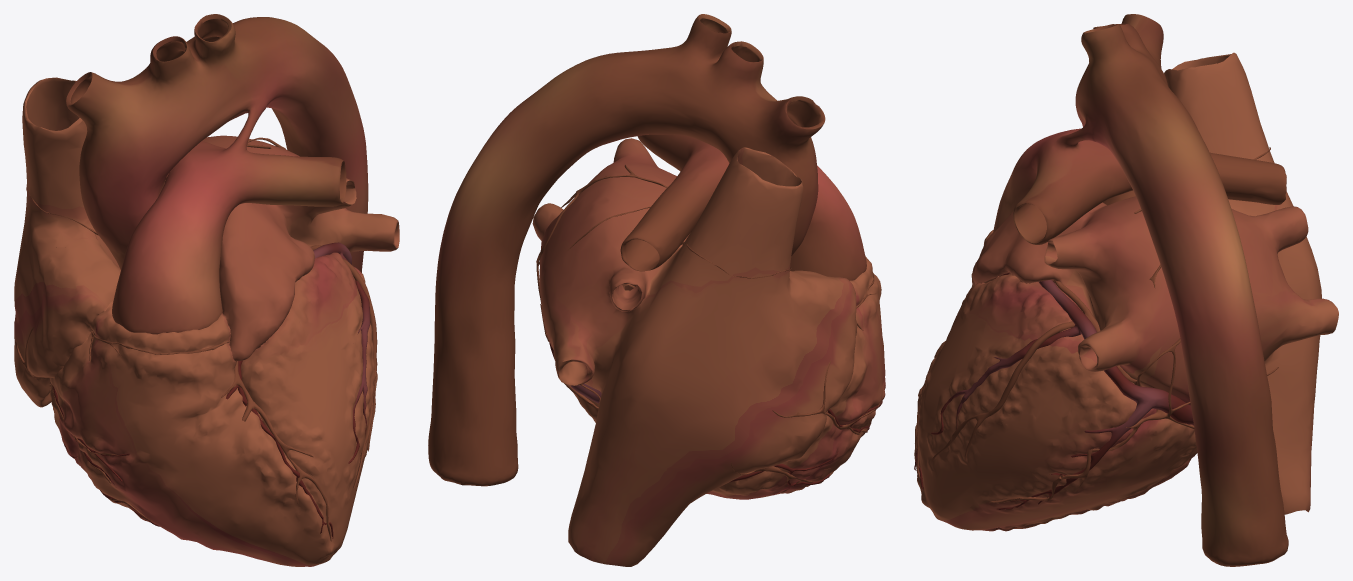
Rendered from Heart.glb.
The picture shows the model from 3 angles, left to right: view 1: azimuth 30°, elevation 25°; view 2: azimuth 150°, elevation 25°; view 3: azimuth 270°, elevation 25°; orthographic projection.
Visible parts, largest first — view 1: MM634_BP51951_FMA4706_Coronary_sinus821_MM634_BP51951_F_e6be, Extract3_1, Extract1; view 2: MM634_BP51951_FMA4706_Coronary_sinus821_MM634_BP51951_F_e6be, Extract3_1, Extract1; view 3: MM634_BP51951_FMA4706_Coronary_sinus821_MM634_BP51951_F_e6be, Extract3_1, Extract1.
Part boxes in pixels (x1,y1,x2,y2): MM634_BP51951_FMA4706_Coronary_sinus821_MM634_BP51951_F_e6be: (14, 77, 399, 566); Extract3_1: (14, 14, 377, 541); Extract1: (52, 242, 370, 538); MM634_BP51951_FMA4706_Coronary_sinus821_MM634_BP51951_F_e6be: (532, 138, 885, 566); Extract3_1: (428, 14, 880, 492); Extract1: (549, 342, 877, 485); MM634_BP51951_FMA4706_Coronary_sinus821_MM634_BP51951_F_e6be: (914, 52, 1338, 531); Extract3_1: (916, 14, 1288, 566); Extract1: (914, 272, 1193, 528).
Size of the model in its own units: 2.34 by 3.05 by 2.35.
4 materials, 4 textured.
